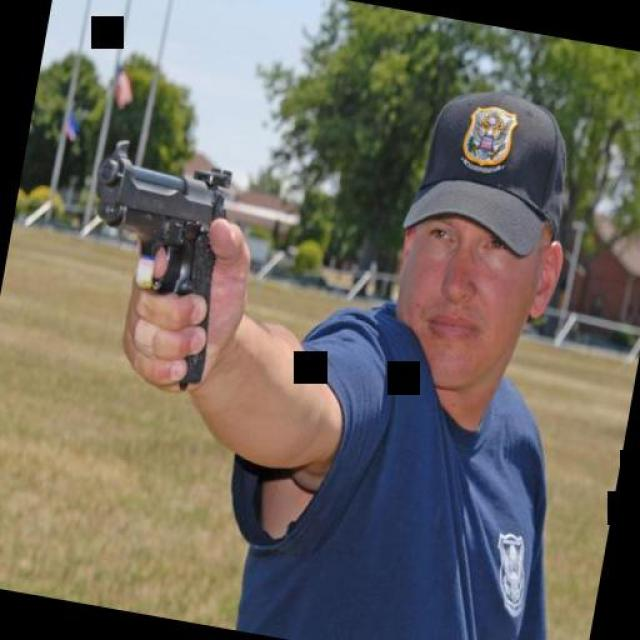gun: (60, 135, 241, 390)
